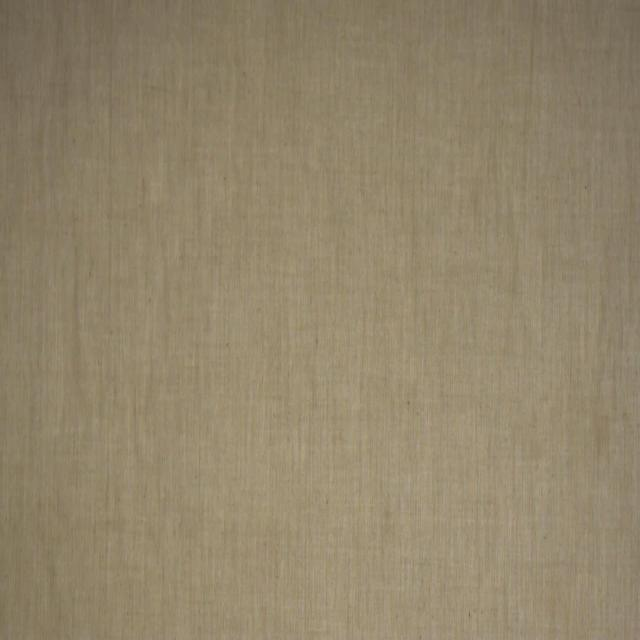dirty: (594, 411, 609, 457)
